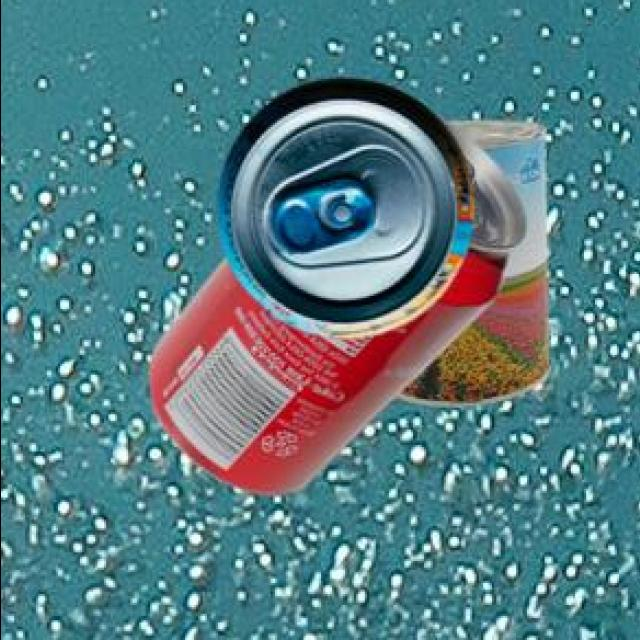logam: (146, 115, 521, 492), (214, 76, 470, 334), (393, 117, 545, 402)
